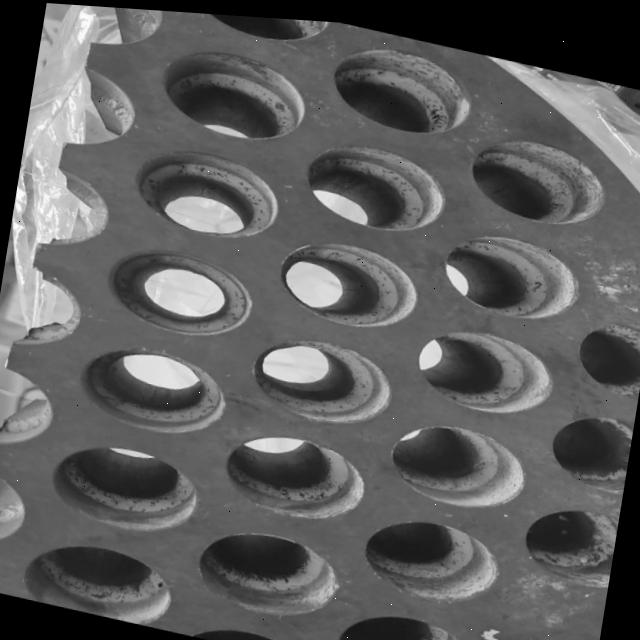Hole: (46, 431, 203, 542), (73, 332, 230, 443), (100, 236, 258, 345), (190, 515, 346, 625), (128, 136, 284, 246), (157, 36, 311, 146), (246, 321, 398, 432), (218, 418, 371, 527), (298, 128, 451, 237), (274, 225, 424, 334), (327, 31, 478, 138), (382, 406, 532, 513), (437, 216, 586, 323), (463, 120, 612, 227), (19, 530, 177, 629), (412, 312, 559, 418), (356, 502, 504, 607), (518, 488, 620, 581), (545, 397, 634, 486), (331, 596, 476, 640), (571, 302, 640, 389), (181, 9, 330, 47), (174, 611, 316, 640)
